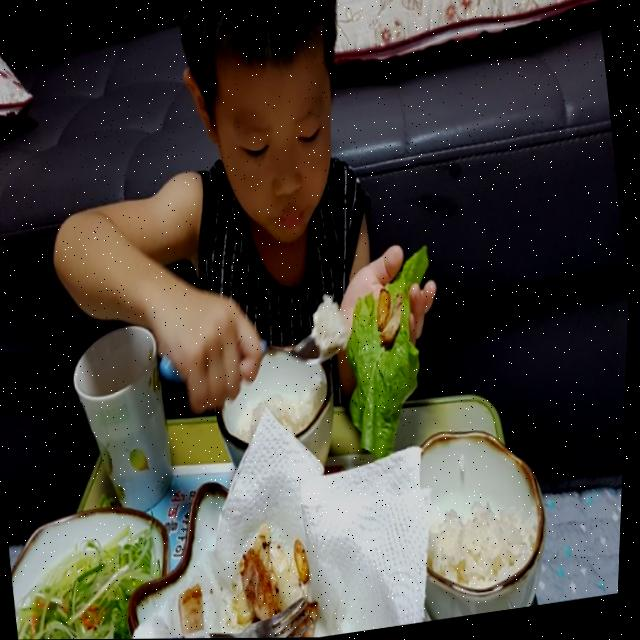eating-person: (5, 0, 483, 558)
